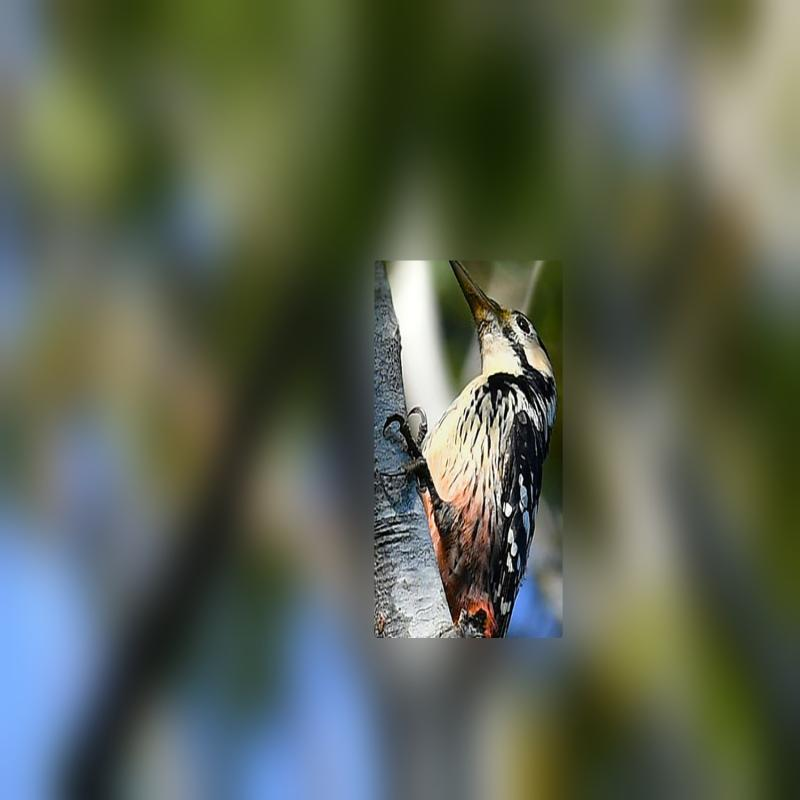white-backed woodpecker: (374, 248, 562, 639)
